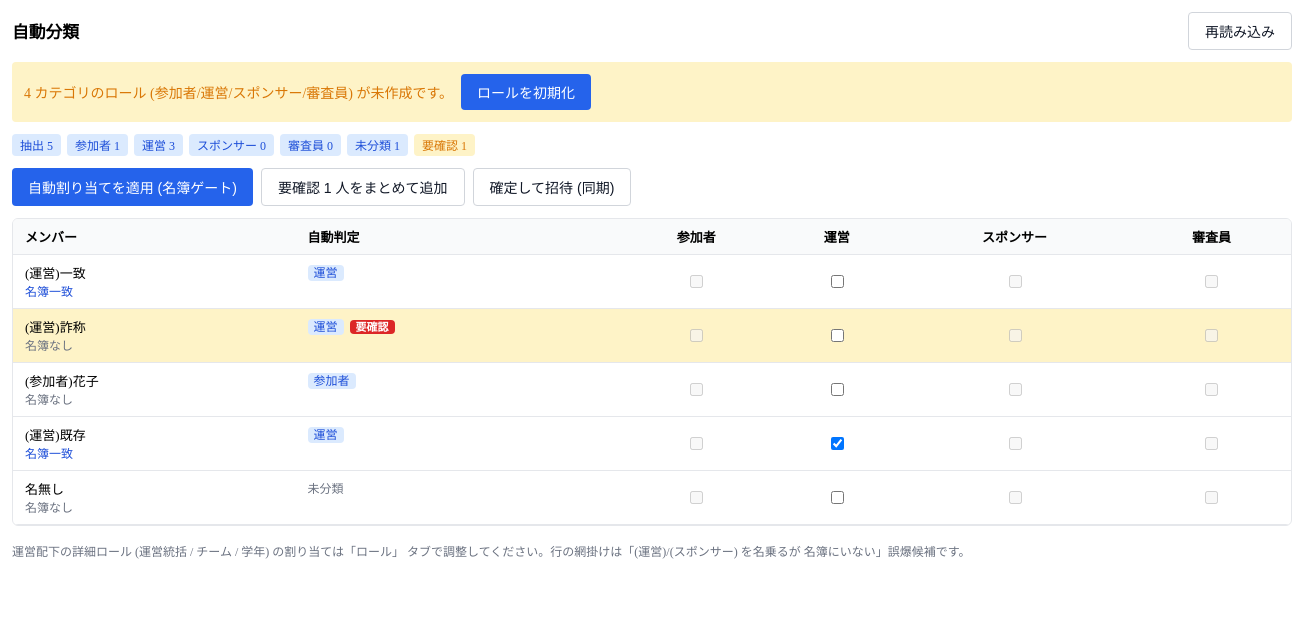
Scenario: AutoClassifyTab 自動割り当てのフィードバック › ロール未初期化 (運営のみ) で押すと無反応でなく明示バナーを出す (HackIt2026 再現)
Click the button with test id "apply-auto-btn" at [132, 187], box [12,168,253,206]
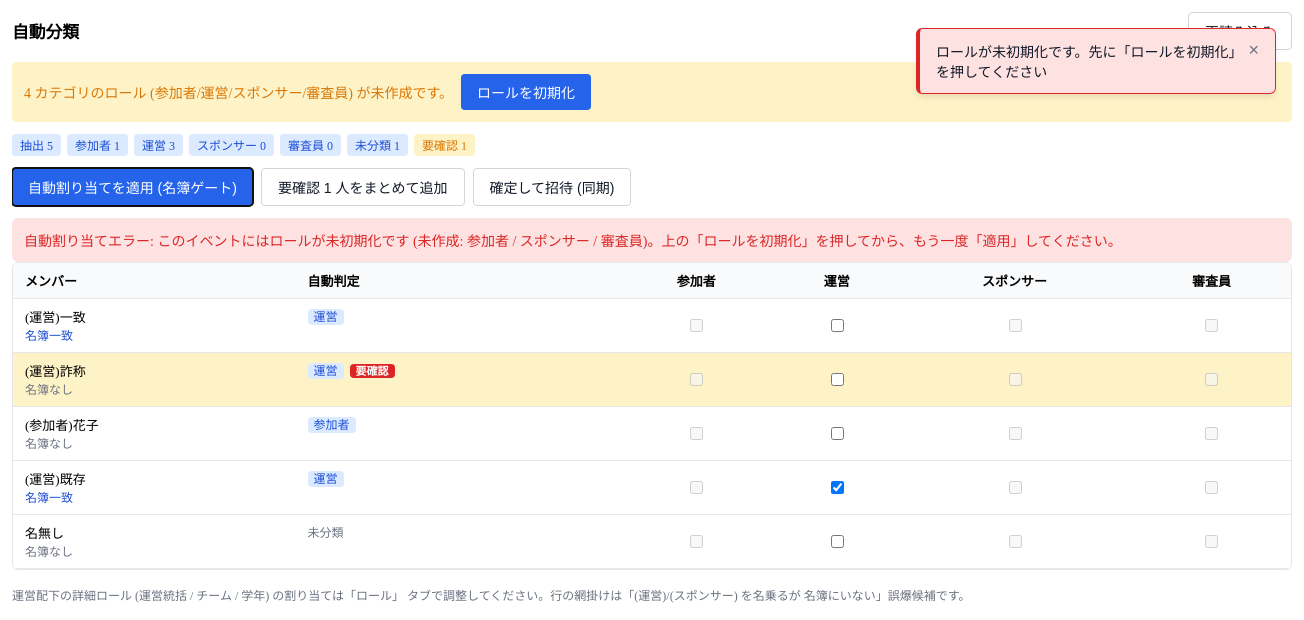
Expected: the element with test id "apply-result" shows "未初期化", [157,234,1122,249]
Expected: the element with test id "apply-result" shows "ロールを初期化", [157,234,1122,249]
